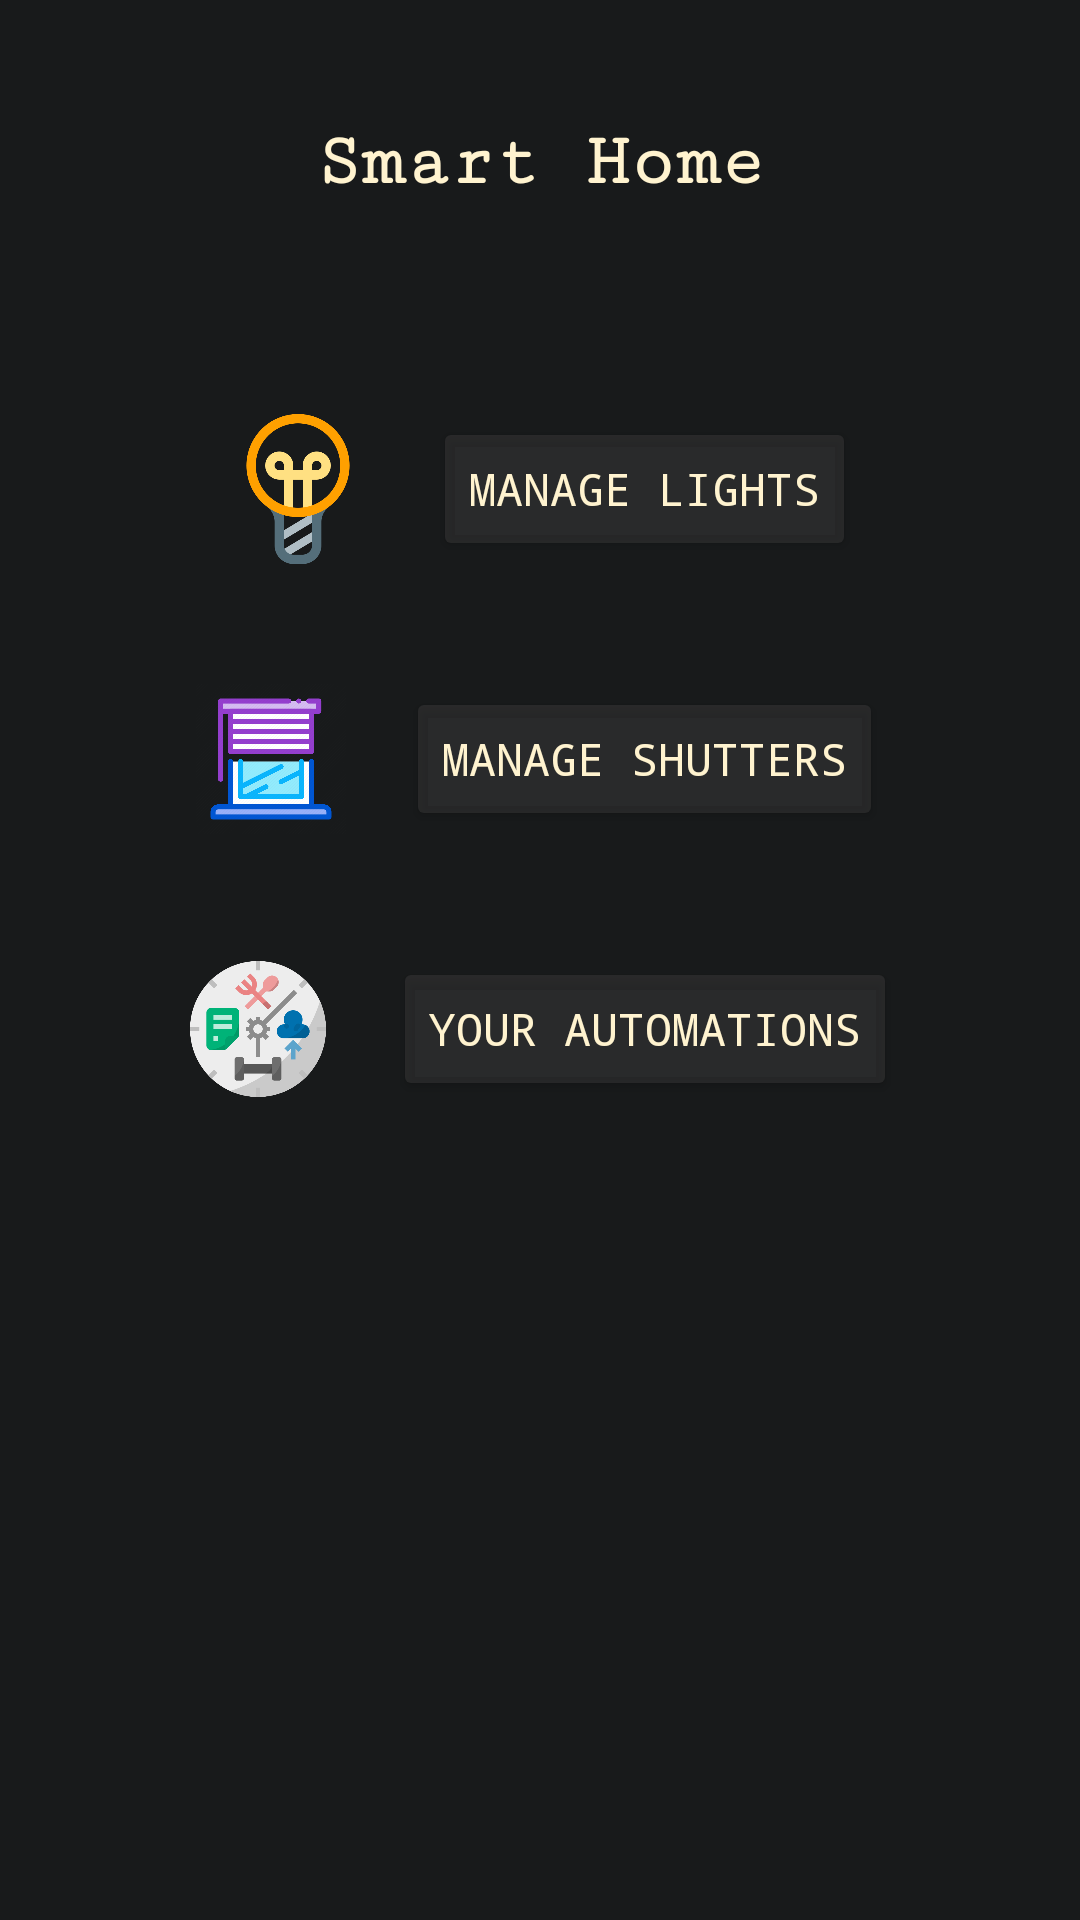

Screen size 1080×1920. Icon name, then its center in pixels as (x=x, y=y):
modern lamp: (x=298, y=489)
modern shutters: (x=271, y=759)
